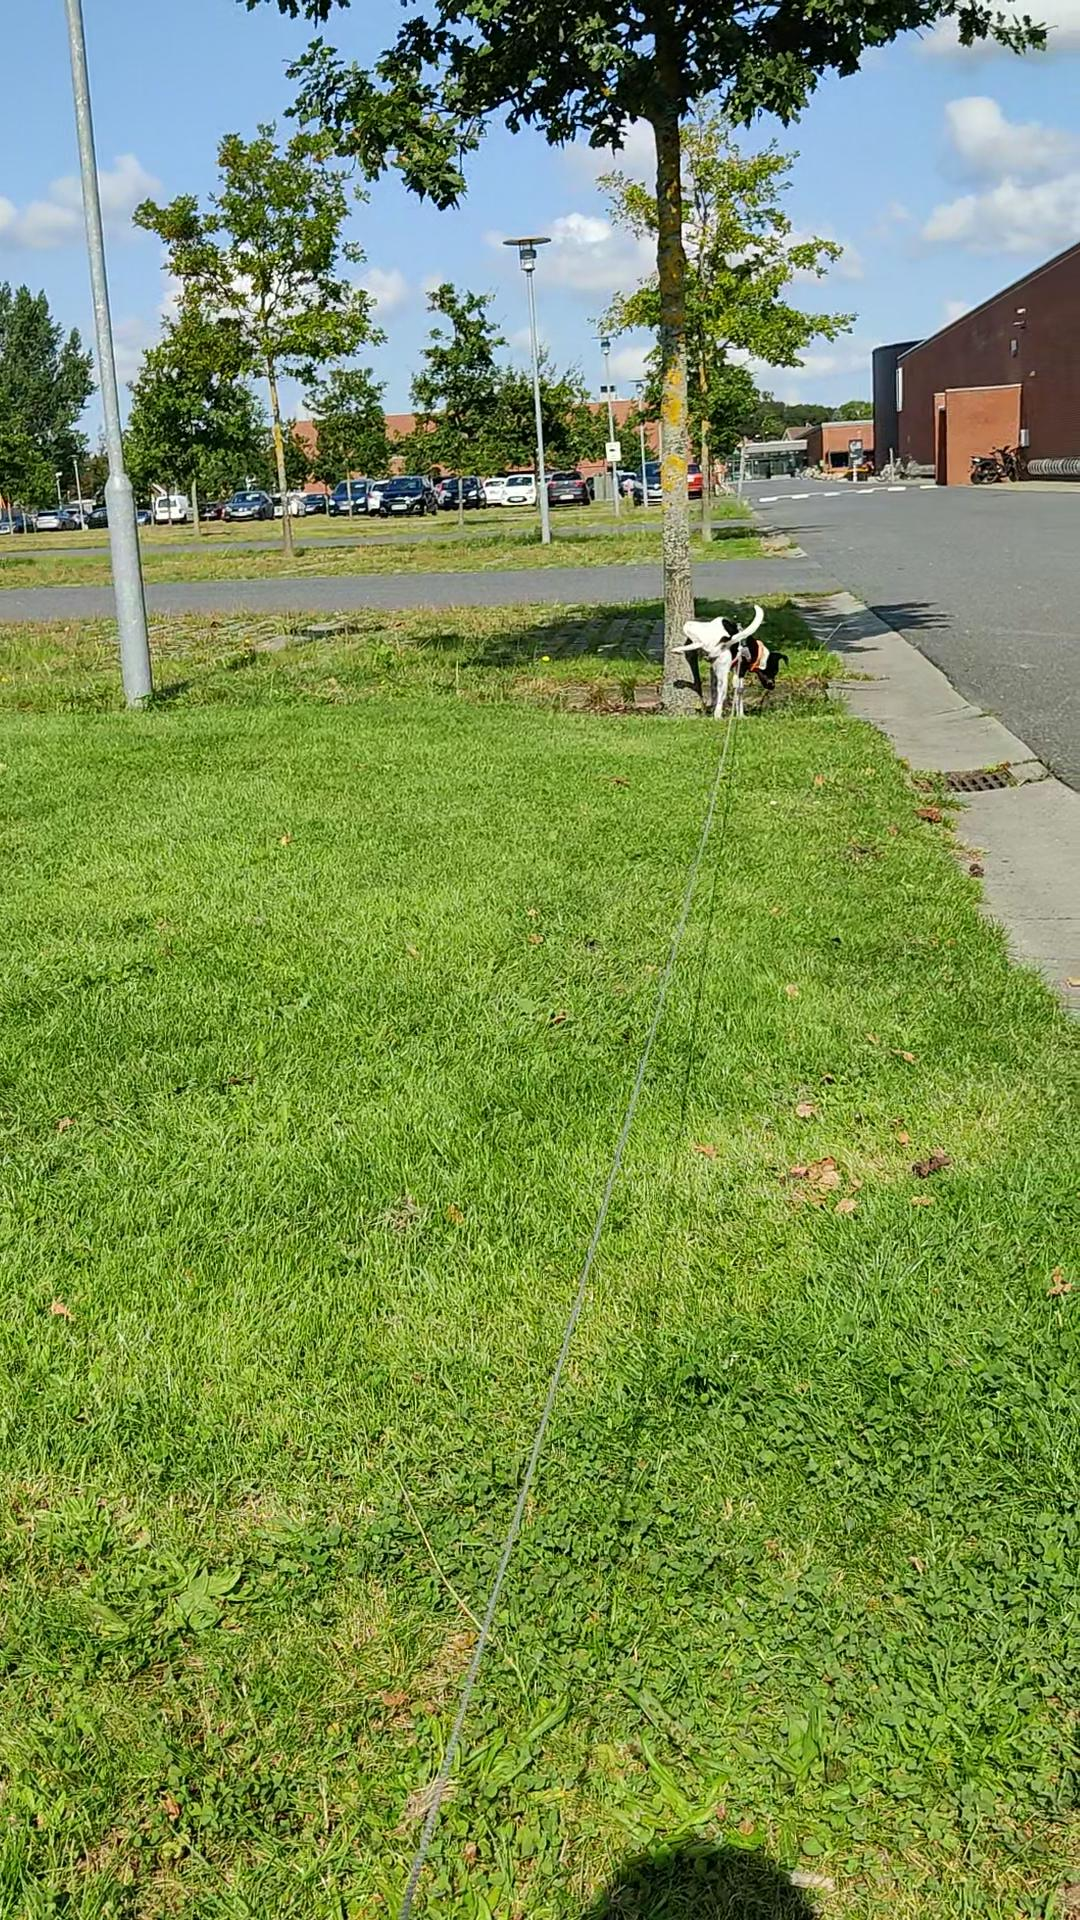Dog: (667, 603, 789, 717)
